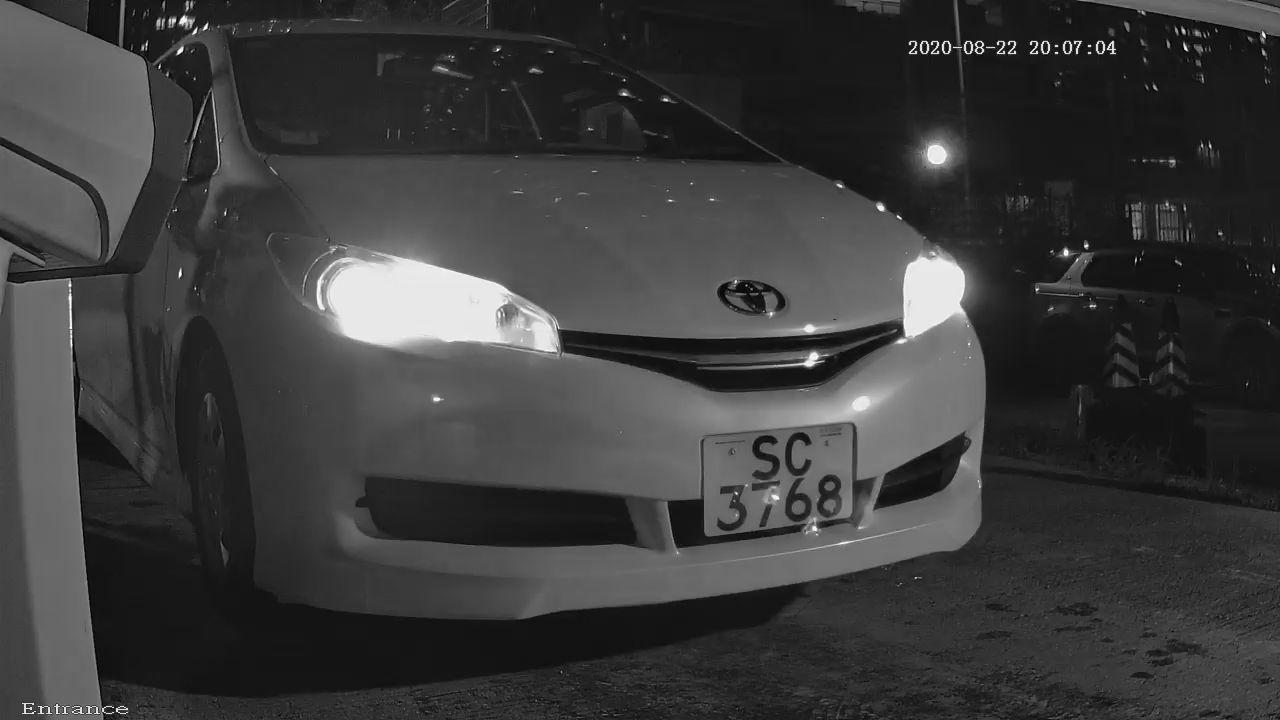License Plate: (686, 406, 886, 557)
